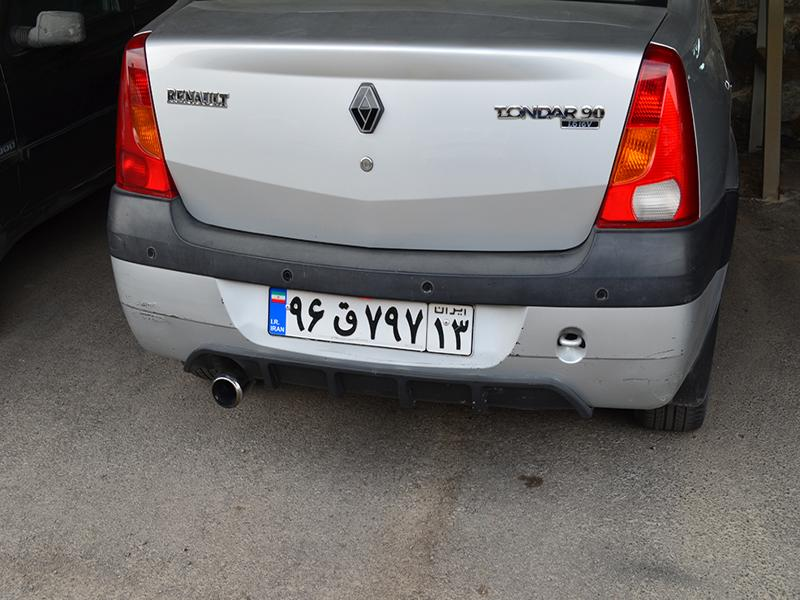Plate: (267, 288, 476, 357)
